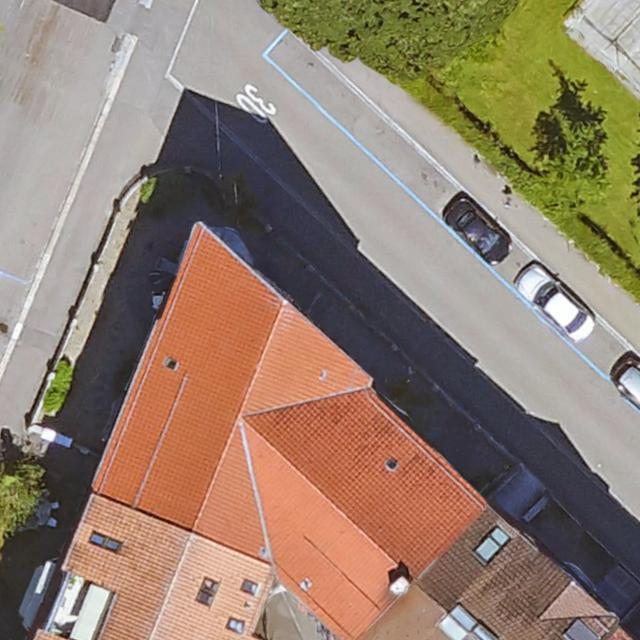tree: (357, 0, 525, 62), (257, 0, 386, 48), (549, 116, 607, 189), (0, 458, 44, 552)
